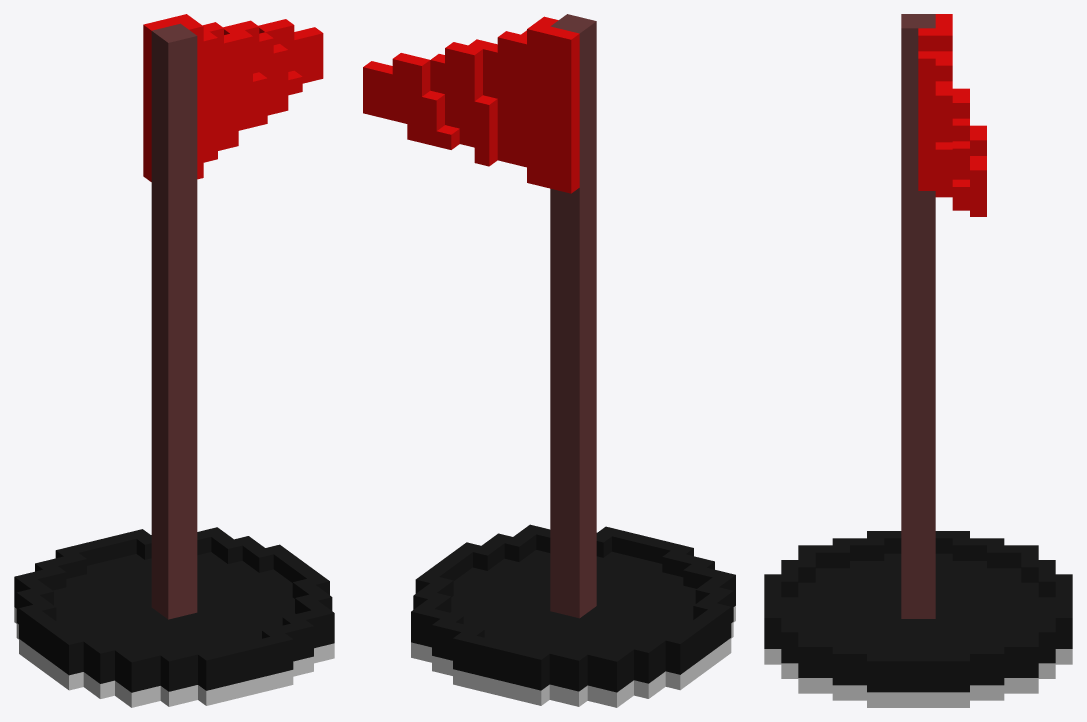
File: flag.obj
3 views of the same model, side by side, from view 1: azimuth 30°, elevation 25°; view 2: azimuth 150°, elevation 25°; view 3: azimuth 270°, elevation 25° (orthographic). The views are drawn at different scales.
Bounding box in the file's own units: 2.1 × 4 × 1.8.
1 material, 1 textured.
